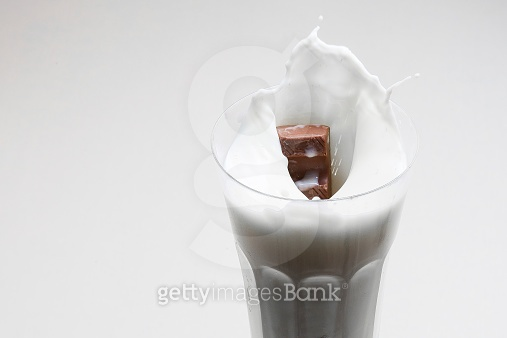glass of milk: (210, 41, 418, 338)
